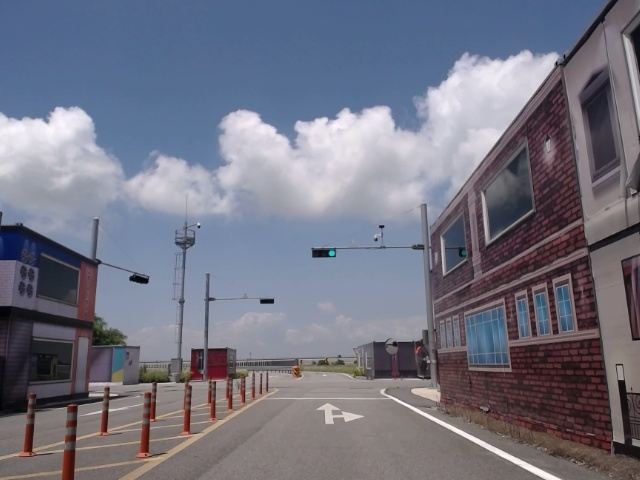green_3: (313, 249, 336, 257)
